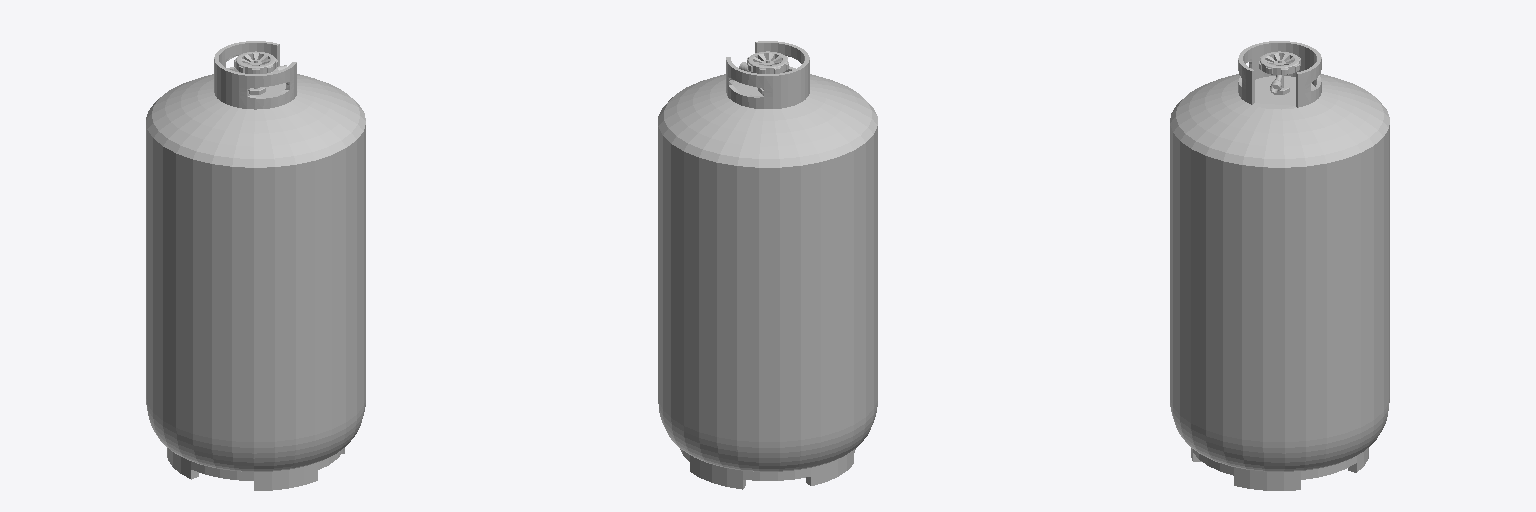
Rendered from propane_tank.obj.
The picture shows the model from 3 angles: view 1: azimuth 30°, elevation 25°; view 2: azimuth 150°, elevation 25°; view 3: azimuth 270°, elevation 25°; orthographic projection.
Visible parts, largest first — view 1: Cylinder; view 2: Cylinder; view 3: Cylinder.
Boxes of the visible parts, <box> form: Cylinder: <box>146,41,365,490</box>; Cylinder: <box>658,41,877,489</box>; Cylinder: <box>1170,41,1389,490</box>.
Bounding box in the file's own units: 2 × 3.95 × 2.